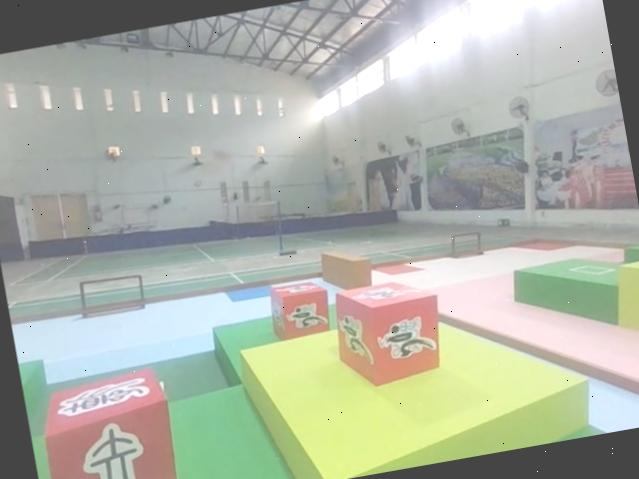R1: (327, 273, 449, 393), (262, 276, 336, 344)
R2 Fake: (31, 363, 184, 479)
